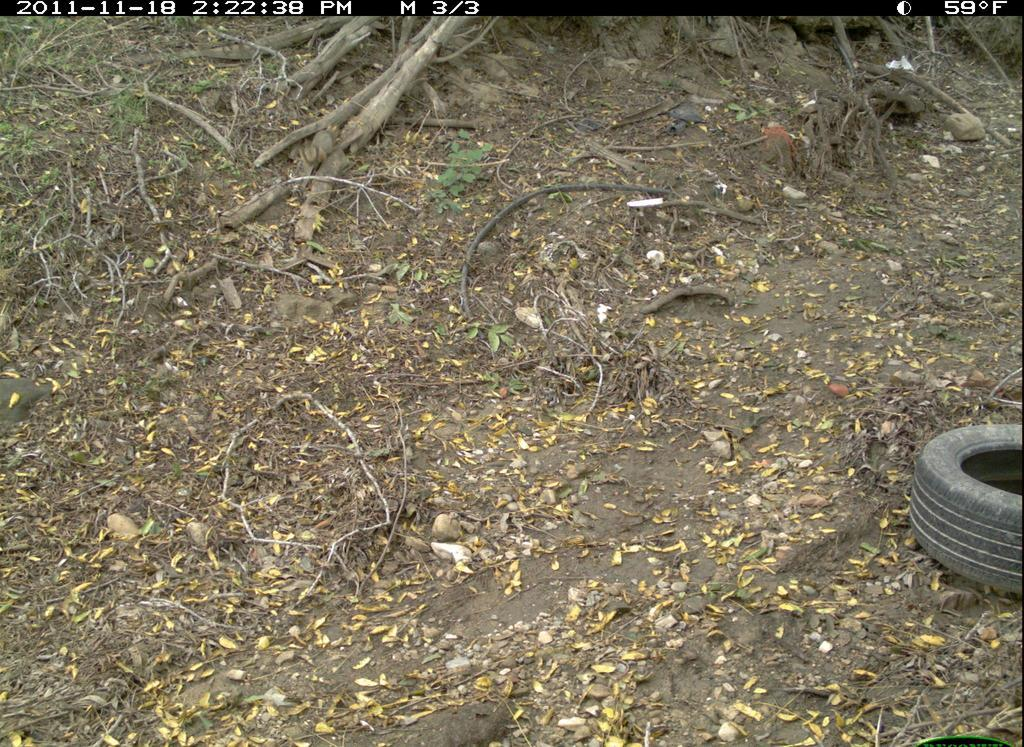squirrel: (294, 122, 356, 178)
